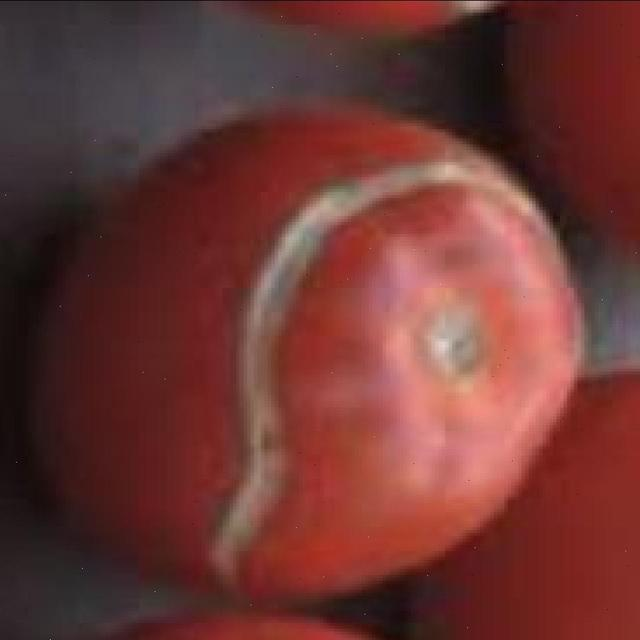Cracking Fruit: (125, 97, 394, 389)
